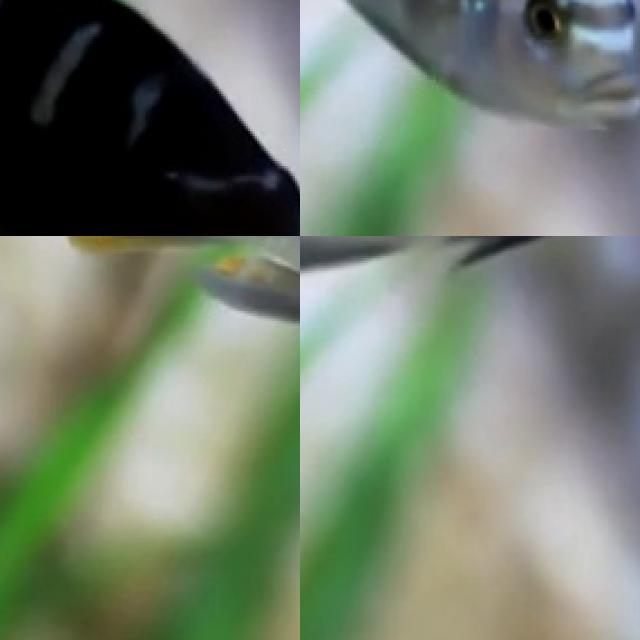fish: (0, 0, 300, 236), (300, 0, 640, 142)
